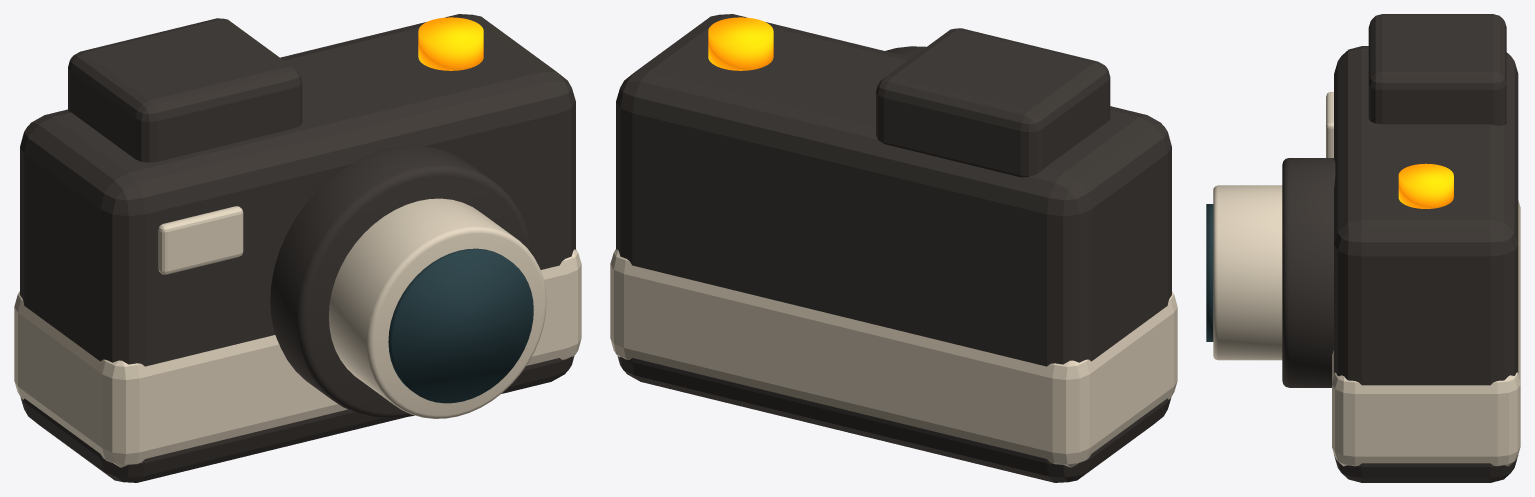
Rendered from camera.glb.
The picture shows the model from 3 angles, left to right: view 1: azimuth 30°, elevation 25°; view 2: azimuth 150°, elevation 25°; view 3: azimuth 270°, elevation 25°; orthographic projection. The views are drawn at different scales.
Visible parts, largest first — view 1: Body, Grip, Top, Lens1, Lens2, Glass, Flash, Shutter; view 2: Body, Grip, Top, Shutter; view 3: Body, Grip, Top, Lens2, Lens1, Shutter, Glass, Flash.
Boxes of the visible parts, x1=… form: Body: x1=20, y1=14, x2=575, y2=482; Grip: x1=14, y1=249, x2=581, y2=467; Top: x1=68, y1=18, x2=302, y2=162; Lens1: x1=270, y1=146, x2=532, y2=418; Lens2: x1=329, y1=198, x2=546, y2=418; Glass: x1=388, y1=248, x2=533, y2=403; Flash: x1=158, y1=206, x2=243, y2=274; Shutter: x1=418, y1=17, x2=483, y2=70; Body: x1=616, y1=14, x2=1171, y2=482; Grip: x1=610, y1=249, x2=1177, y2=467; Top: x1=876, y1=28, x2=1110, y2=177; Shutter: x1=708, y1=17, x2=773, y2=70; Body: x1=1334, y1=46, x2=1518, y2=482; Grip: x1=1332, y1=200, x2=1520, y2=466; Top: x1=1368, y1=14, x2=1506, y2=125; Lens2: x1=1213, y1=185, x2=1282, y2=360; Lens1: x1=1282, y1=158, x2=1335, y2=387; Shutter: x1=1398, y1=163, x2=1453, y2=208; Glass: x1=1206, y1=204, x2=1213, y2=341; Flash: x1=1326, y1=92, x2=1333, y2=157.
Size of the model in its own units: 2.02 by 1.48 by 1.37.
